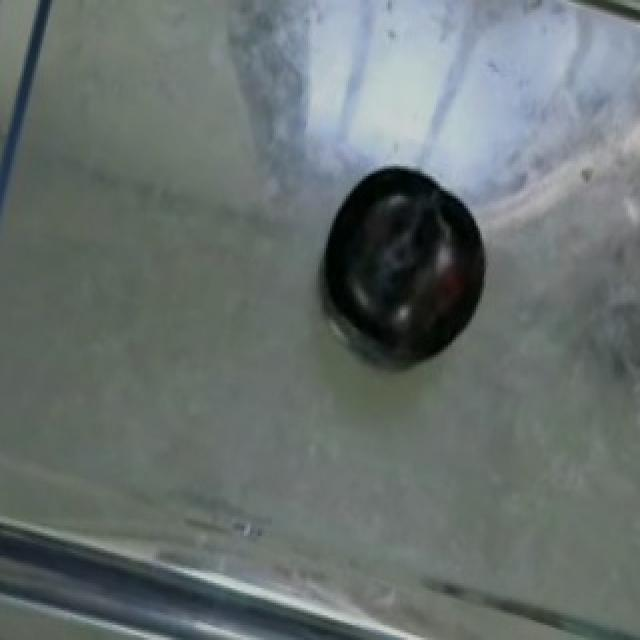Fruit: (298, 171, 518, 377)
